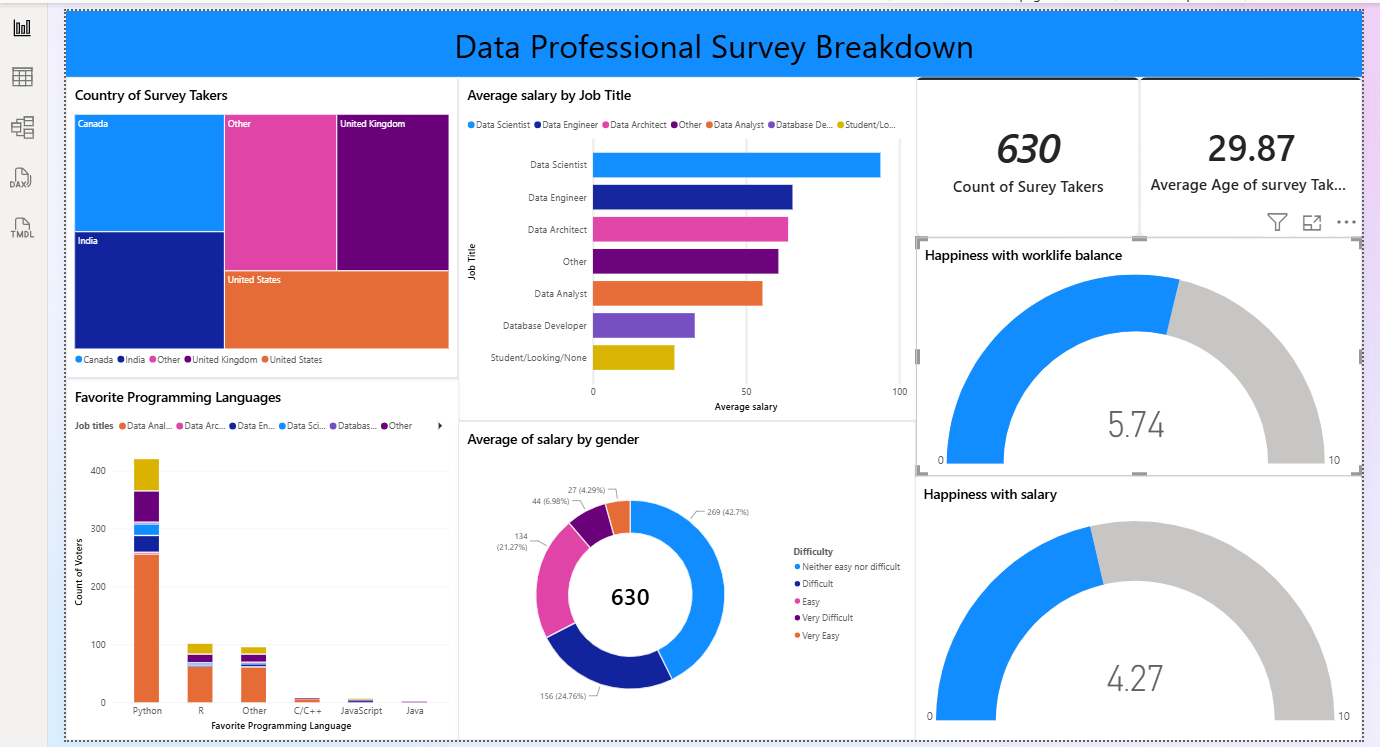

This screenshot's page, from the dashboard's own definition file:
{"tool":"powerbi","page":{"name":"Page 1","canvas":[1920,1080],"ordinal":0},"visuals":[{"type":"textbox","box":[0,0,1920.4,98],"z":0},{"type":"cardVisual","fields":{"Data":["CountNonNull(Data Professional Survey.Unique ID)"]},"box":[1260.1,98.9,331.2,236.3],"z":1000},{"type":"cardVisual","fields":{"Data":["Avg(Data Professional Survey.Q10 - Current Age)"]},"box":[1591.3,98.9,329.2,236.3],"z":2000},{"type":"barChart","title":"Average salary by Job Title ","fields":{"Category":["Data Professional Survey.Q1 - Which Title Best Fits your Current Role?.1"],"Series":["Data Professional Survey.Q1 - Which Title Best Fits your Current Role?.1"],"Y":["Avg(Data Professional Survey.Average salary Custom.1)"]},"box":[581.6,98.9,678.5,508.9],"z":3000},{"type":"columnChart","title":"Favorite Programming Languages","fields":{"Category":["Data Professional Survey.Q5 - Favorite Programming Language.1"],"Series":["Data Professional Survey.Q1 - Which Title Best Fits your Current Role?.1"],"Y":["CountNonNull(Data Professional Survey.Unique ID)"]},"box":[0,544,582,536],"z":4000},{"type":"treemap","title":"Country of Survey Takers","fields":{"Group":["Data Professional Survey.Q11 - Which Country do you live in?.1"],"Values":["Count(Data Professional Survey.Q11 - Which Country do you live in?.1)"]},"box":[0,97.5,580.8,445.1],"z":5000},{"type":"gauge","title":"Happiness with worklife balance","fields":{"MaxValue":["Max(Data Professional Survey.Q6 - How Happy are you in your Current Position with the following? (Work/Life Balance))"],"MinValue":["Min(Data Professional Survey.Q6 - How Happy are you in your Current Position with the following? (Work/Life Balance))"],"TargetValue":["Sum(Data Professional Survey.Q6 - How Happy are you in your Current Position with the following? (Work/Life Balance))"],"Y":["Avg(Data Professional Survey.Q6 - How Happy are you in your Current Position with the following? (Work/Life Balance))"]},"box":[1260.1,335.2,660.3,353.4],"z":6000},{"type":"gauge","title":"Happiness with salary","fields":{"MaxValue":["Max(Data Professional Survey.Q6 - How Happy are you in your Current Position with the following? (Salary))"],"MinValue":["Min(Data Professional Survey.Q6 - How Happy are you in your Current Position with the following? (Salary))1"],"Y":["Avg(Data Professional Survey.Q6 - How Happy are you in your Current Position with the following? (Salary))"]},"box":[1258.1,688.6,662.3,391.8],"z":7000},{"type":"donutChart","title":"Average of salary  by gender","fields":{"Category":["Data Professional Survey.Q7 - How difficult was it for you to break into Data?"],"Y":["CountNonNull(Data Professional Survey.Q7 - How difficult was it for you to break into Data?)"]},"box":[581.6,607.8,676.5,472.5],"z":8000}]}

Visuals, with their boxes in screenshot pixels (x1, y1, x2, y2):
textbox: BBox(50, 4, 1361, 70)
cardVisual - CountNonNull(Data Professional Survey.Unique ID): BBox(910, 71, 1136, 232)
cardVisual - Avg(Data Professional Survey.Q10 - Current Age): BBox(1136, 71, 1361, 232)
"Average salary by Job Title " barChart: BBox(447, 71, 910, 418)
"Favorite Programming Languages" columnChart: BBox(50, 375, 448, 741)
"Country of Survey Takers" treemap: BBox(50, 70, 447, 374)
"Happiness with worklife balance" gauge: BBox(910, 232, 1361, 474)
"Happiness with salary" gauge: BBox(909, 474, 1361, 741)
"Average of salary  by gender" donutChart: BBox(447, 418, 909, 741)
